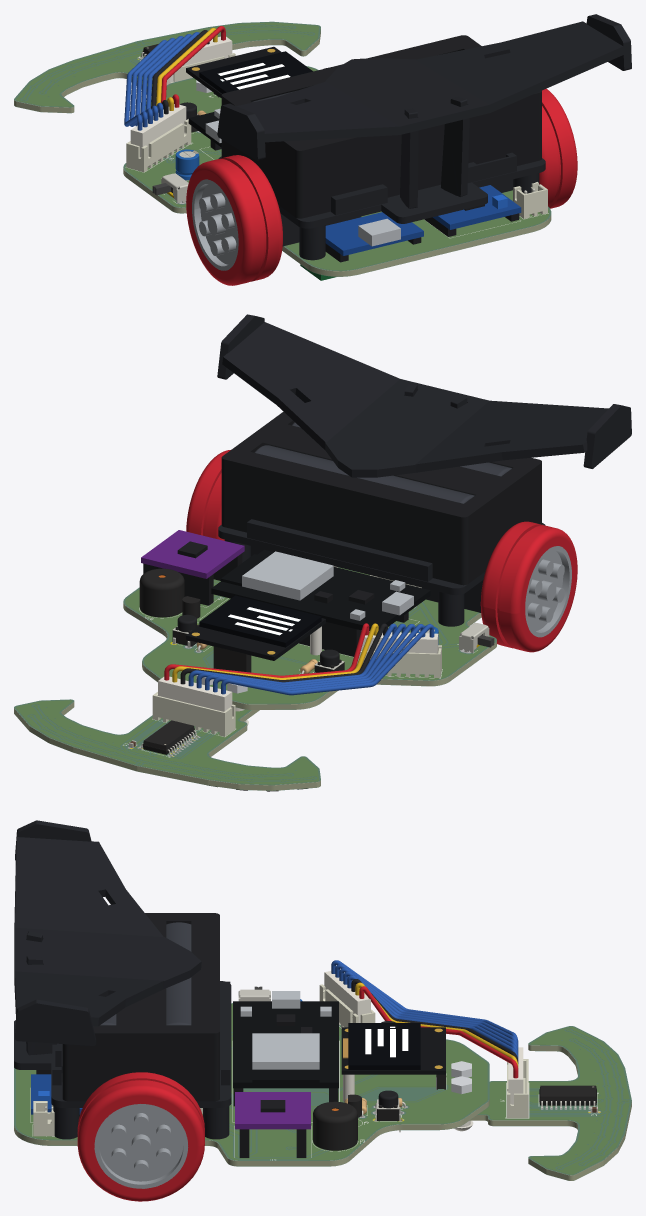
File: LFM_rakitan.glb
3 renders of one model, top to bottom at view 1: azimuth 30°, elevation 25°; view 2: azimuth 150°, elevation 25°; view 3: azimuth 270°, elevation 25°, orthographic.
Parts seen in each view (by area): view 1: mekanik, sayap, pcb_utama, pcb_sensor; view 2: mekanik, sayap, pcb_utama, pcb_sensor; view 3: mekanik, sayap, pcb_utama, pcb_sensor.
Boxes of the visible parts, x1,y1,x2,y2 form: mekanik: (124,26,577,285); sayap: (217,14,631,208); pcb_utama: (123,66,551,276); pcb_sensor: (14,21,320,113); mekanik: (141,411,577,725); sayap: (217,314,631,477); pcb_utama: (123,566,496,709); pcb_sensor: (14,692,320,791); mekanik: (14,913,523,1201); sayap: (14,820,201,1055); pcb_utama: (14,984,489,1166); pcb_sensor: (470,1026,631,1180).
Size of the model in its own units: 0.1156 by 0.0621 by 0.165.
